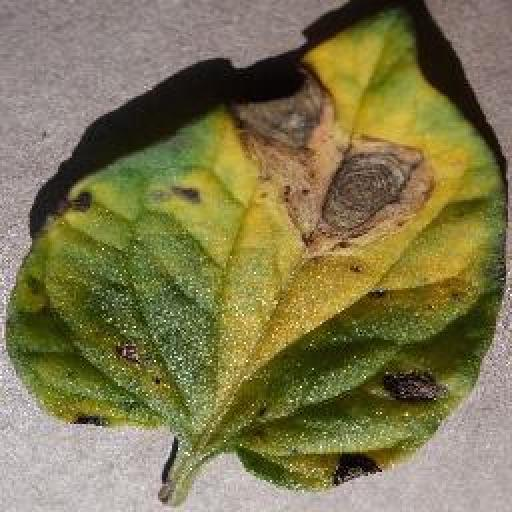Early Blight: (6, 2, 505, 494)
